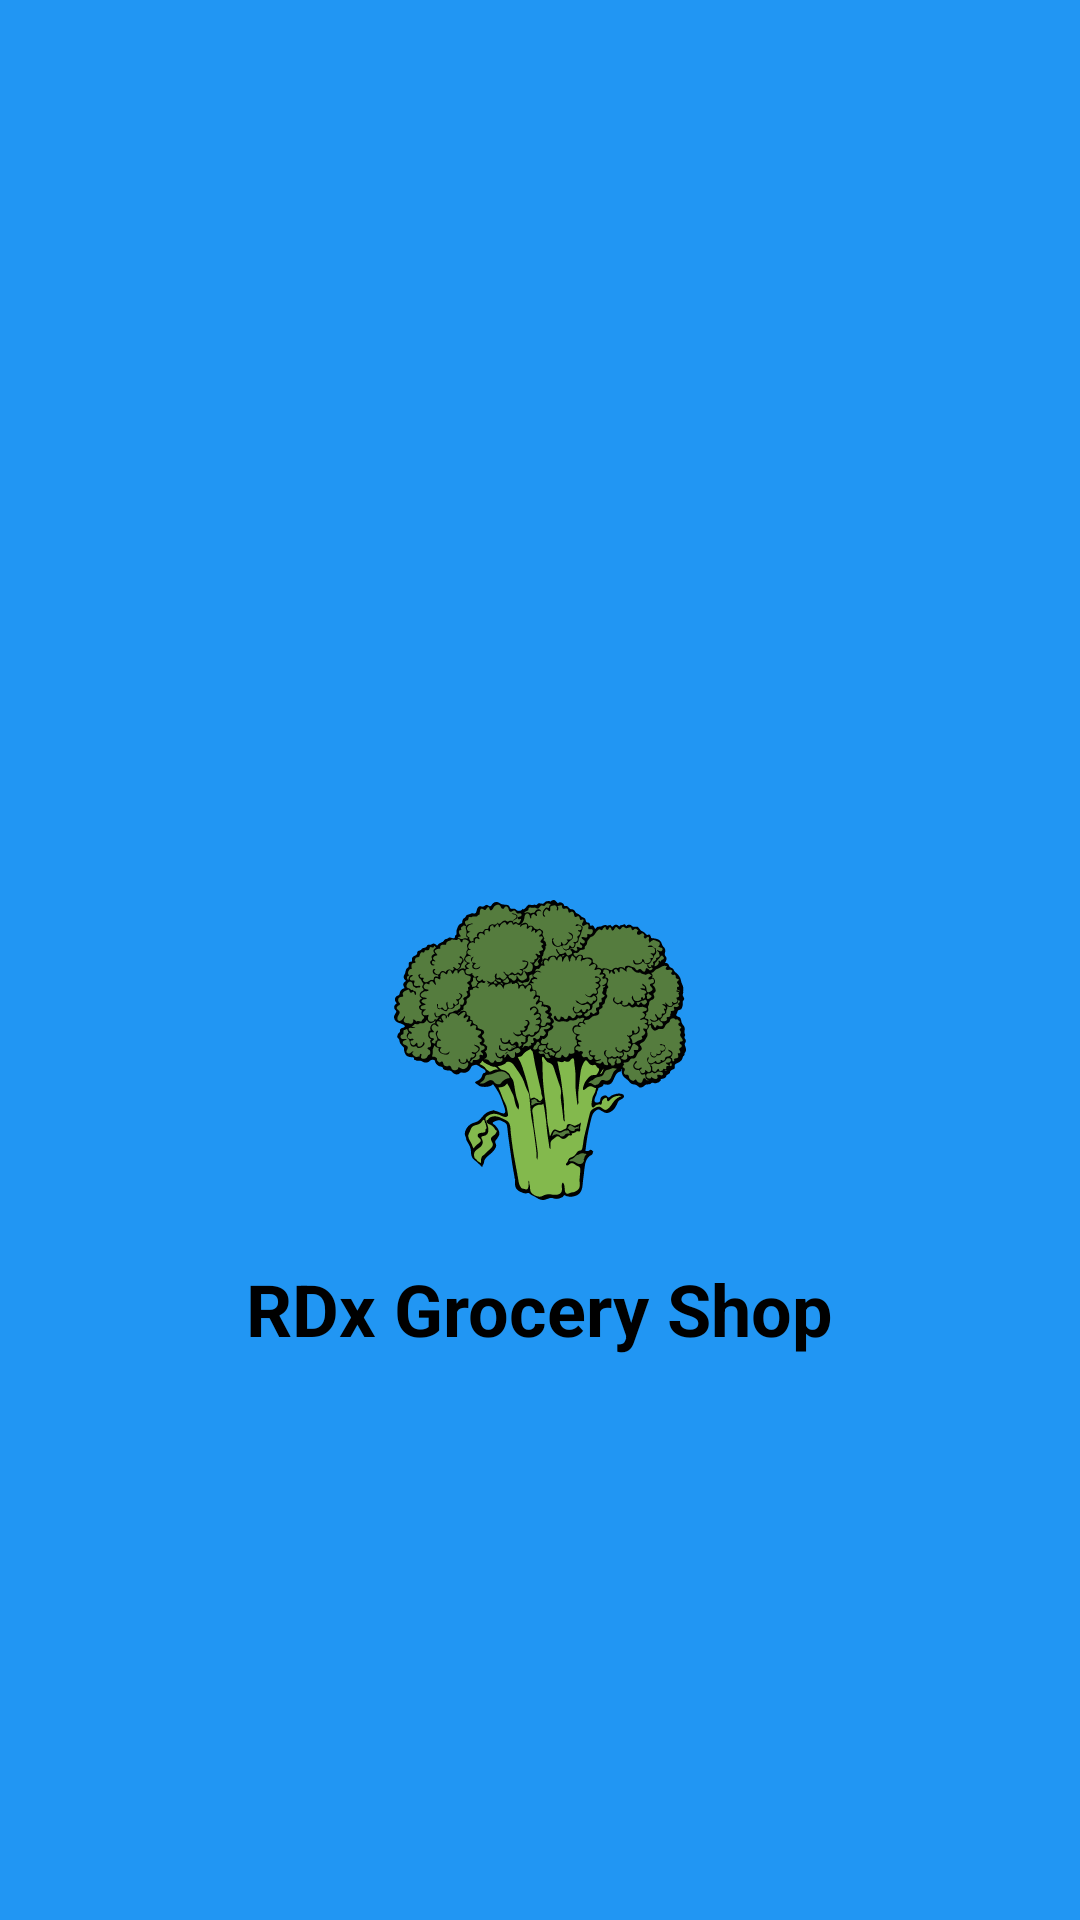

Point at icon controls on the screen. Image size 1080px×1920px, points as (x=x, y=y).
johnny automatic broccoli: (x=540, y=1050)
